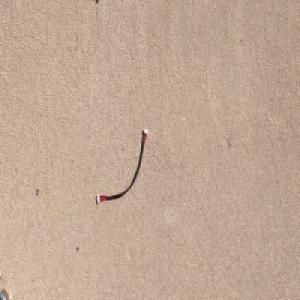Wire: (96, 127, 148, 205)
